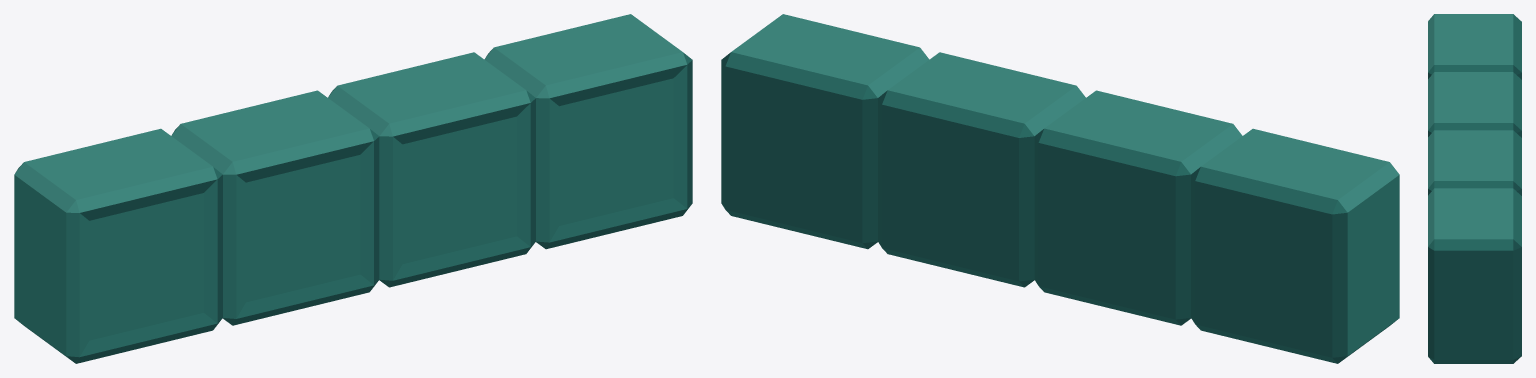
The model's file is Terrain_Block4x1.gltf.
The picture shows the model from 3 angles, left to right: view 1: azimuth 30°, elevation 25°; view 2: azimuth 150°, elevation 25°; view 3: azimuth 270°, elevation 25°; orthographic projection. The views are drawn at different scales.
Visible parts, largest first — view 1: Terrain_Block4x1_baked; view 2: Terrain_Block4x1_baked; view 3: Terrain_Block4x1_baked.
Boxes of the visible parts, x1,y1,x2,y2 form: Terrain_Block4x1_baked: [14, 14, 692, 363]; Terrain_Block4x1_baked: [721, 14, 1399, 363]; Terrain_Block4x1_baked: [1428, 14, 1521, 363].
Size of the model in its own units: 4 by 1 by 0.6822.
